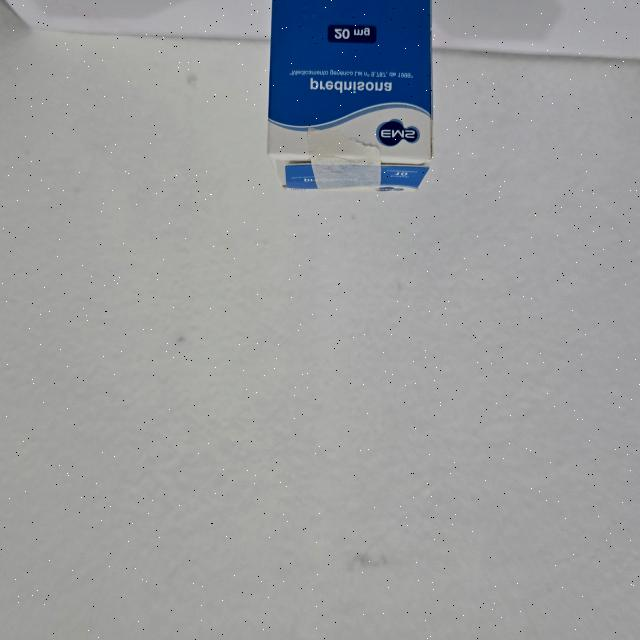prednisona: (264, 0, 436, 195)
